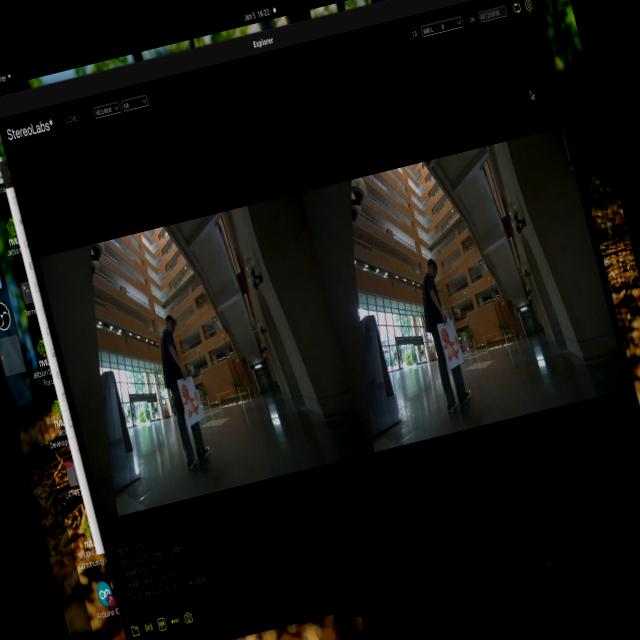red: (174, 379, 206, 431), (438, 321, 468, 374)
